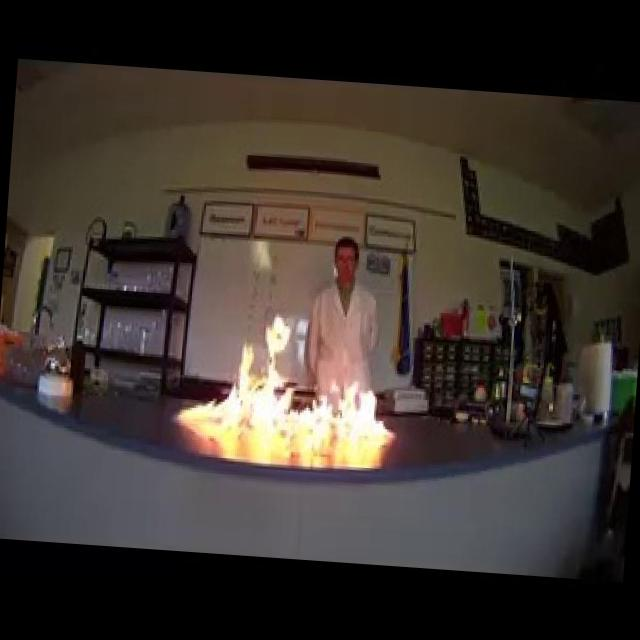Fire: (173, 304, 409, 444)
